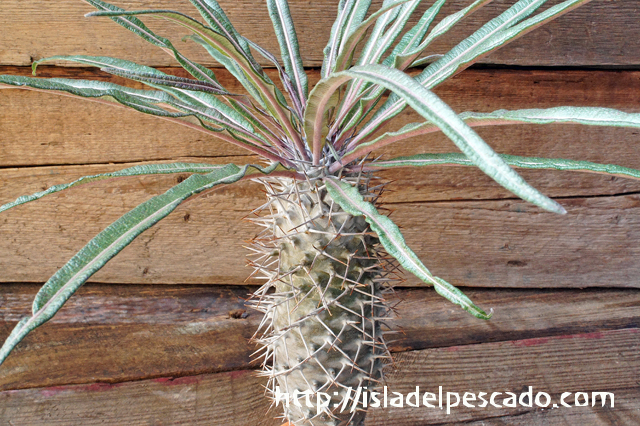Pachypodium geayi: (173, 57, 487, 419)
